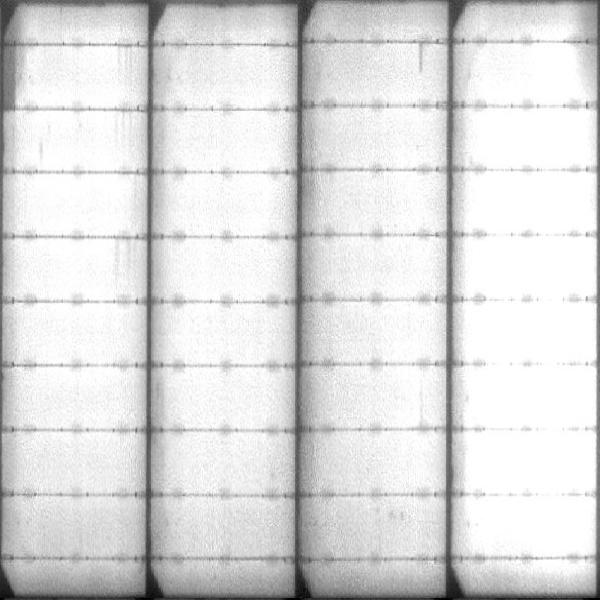black_border: (1, 42, 22, 114)
hot_spot: (471, 434, 588, 493), (470, 500, 597, 552), (474, 304, 590, 358), (473, 368, 588, 422), (470, 241, 585, 291), (471, 180, 585, 227), (476, 114, 585, 159), (492, 48, 571, 96)
scratch: (413, 37, 427, 81)
